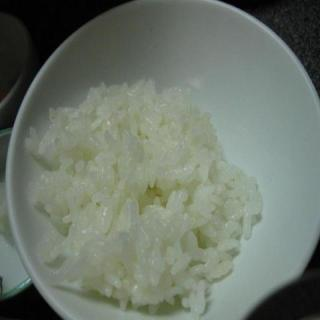Nasi: (23, 77, 264, 320)
